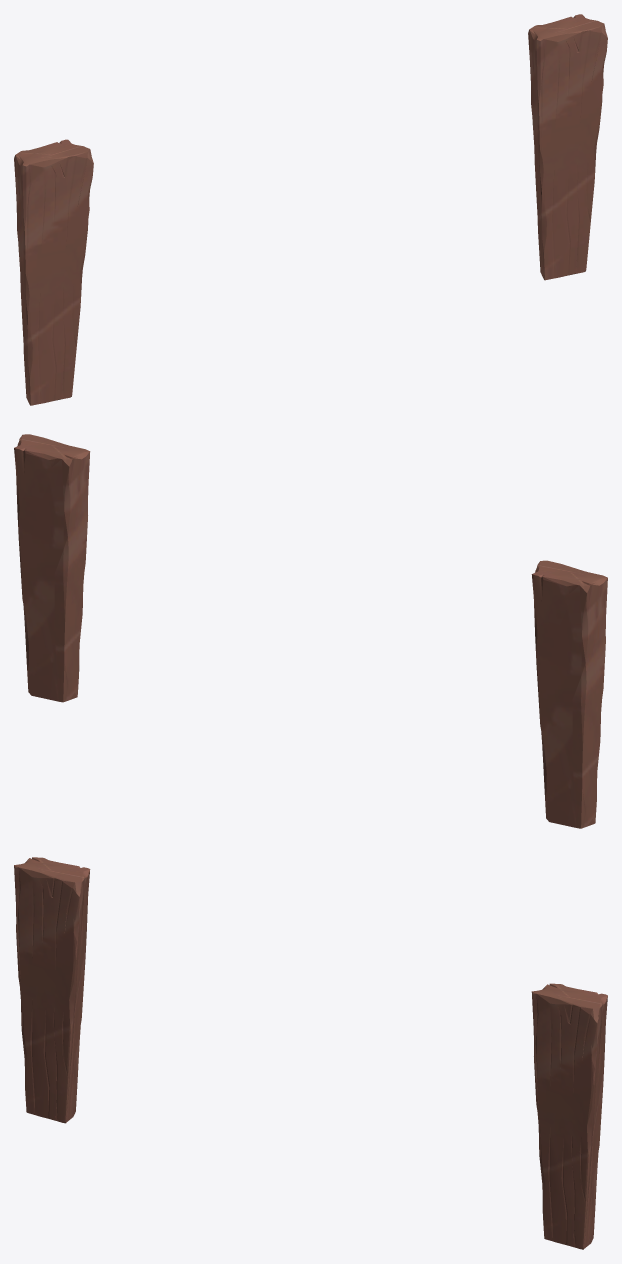
File: POLES.fbx
3 views of the same model, one above another, from view 1: azimuth 30°, elevation 25°; view 2: azimuth 150°, elevation 25°; view 3: azimuth 330°, elevation 25° (orthographic).
Parts seen in each view (by area): view 1: MeshBaker_mesh_mesh; view 2: MeshBaker_mesh_mesh; view 3: MeshBaker_mesh_mesh.
Part boxes in pixels (bbox=[...]): MeshBaker_mesh_mesh: bbox=[14, 14, 607, 405]; MeshBaker_mesh_mesh: bbox=[14, 434, 607, 828]; MeshBaker_mesh_mesh: bbox=[14, 857, 607, 1249].
Bounding box in the file's own units: 855 × 344 × 48.18.
1 material, 1 textured.
